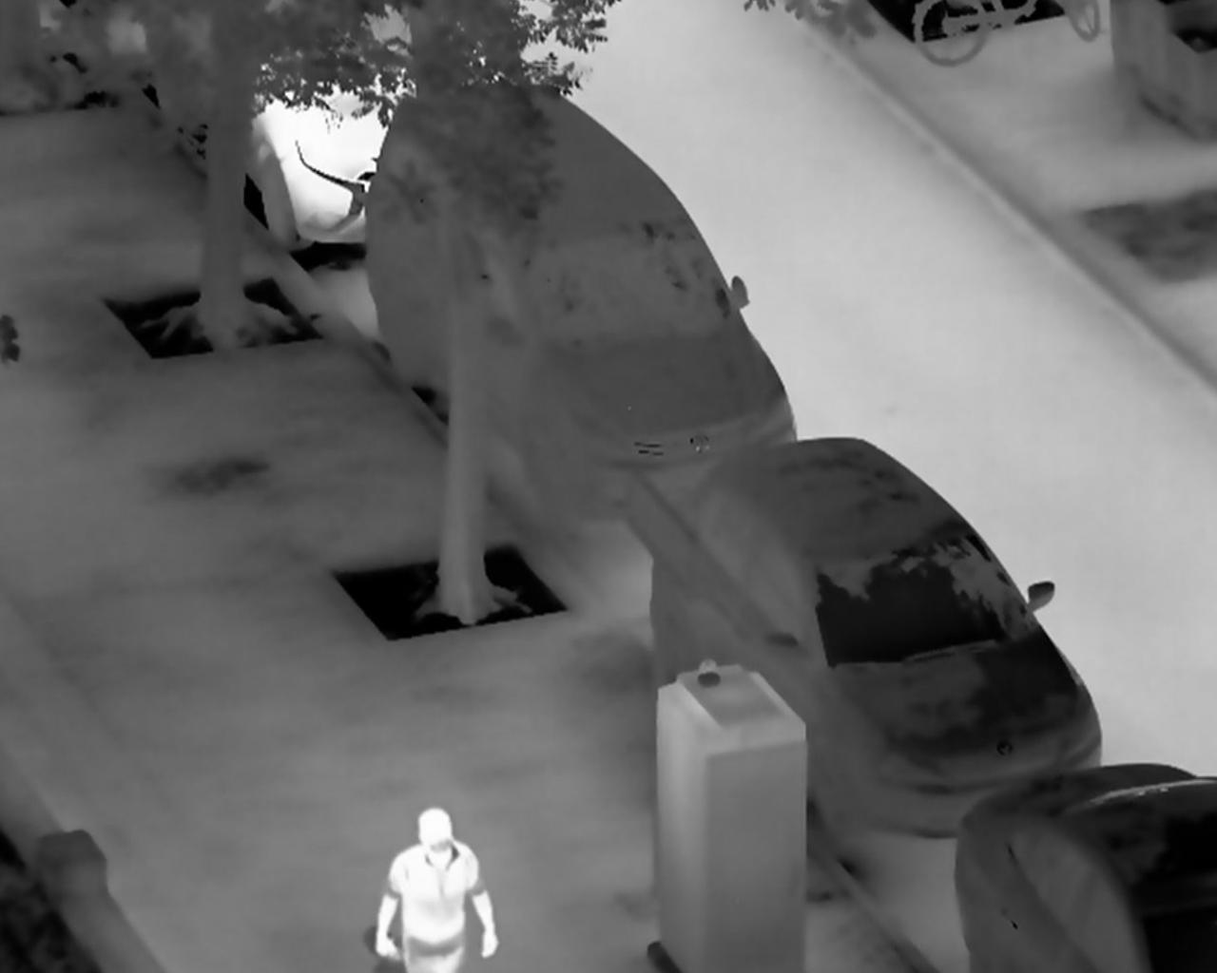person: (375, 805, 502, 973)
